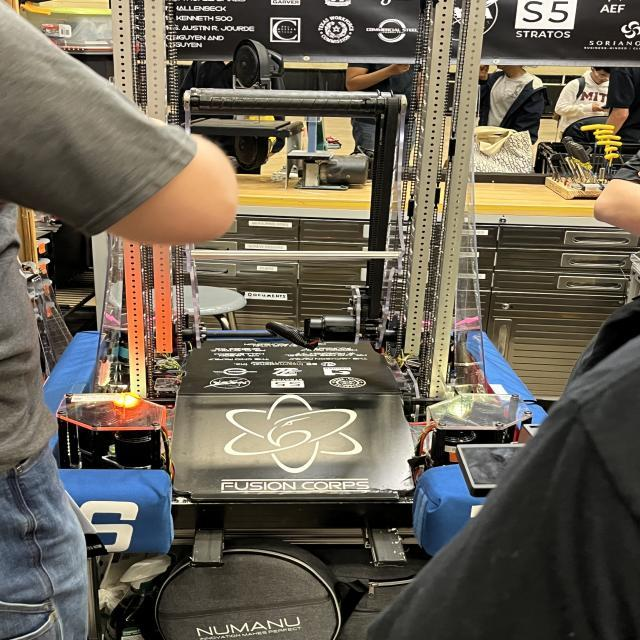robot: (19, 0, 598, 554)
